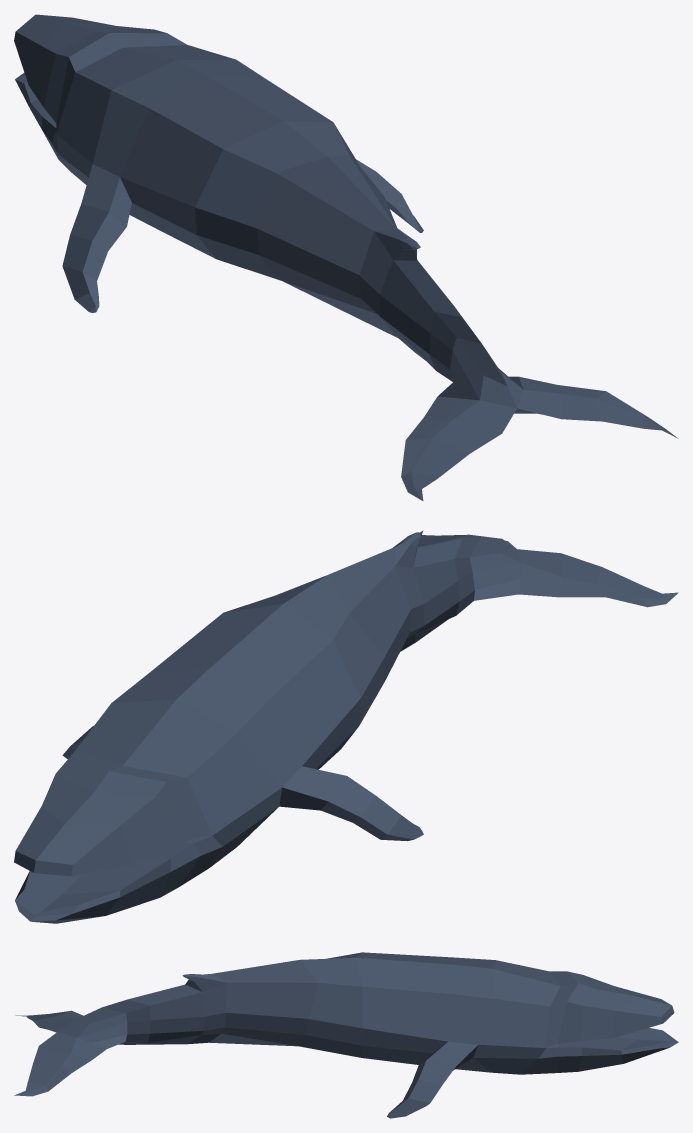
Rendered from Whale.glb.
The picture shows the model from 3 angles, top to bottom: view 1: azimuth 30°, elevation 25°; view 2: azimuth 150°, elevation 25°; view 3: azimuth 270°, elevation 25°; orthographic projection. The views are drawn at different scales.
Visible parts, largest first — view 1: Whale; view 2: Whale; view 3: Whale.
Part boxes in pixels (bbox=[...]): Whale: bbox=[14, 14, 678, 500]; Whale: bbox=[14, 530, 678, 923]; Whale: bbox=[14, 952, 678, 1118].
Bounding box in the file's own units: 169 × 82.06 × 449.
